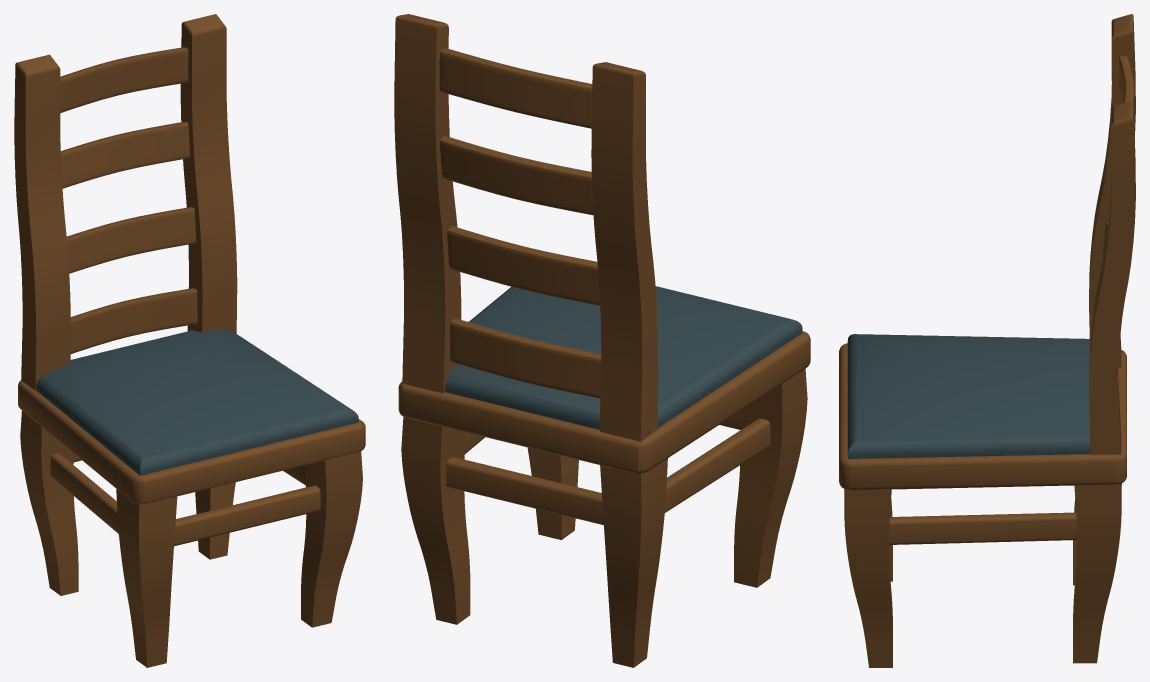
The model's file is 047_048_chair.glb.
3 renders of one model, left to right at view 1: azimuth 30°, elevation 25°; view 2: azimuth 150°, elevation 25°; view 3: azimuth 270°, elevation 25°, orthographic. The views are drawn at different scales.
Parts seen in each view (by area): view 1: Asiento.001, palo 2, palo 1, Asiento, pata 3, pata 2, pata 4, respaldo 2, respaldo 3, respaldo 4, respaldo 1, Plane.001 (+2 smaller); view 2: Asiento.001, palo 2, palo 1, Asiento, pata 4, pata 1, pata 3, respaldo 1, respaldo 4, respaldo 3, respaldo 2, Plane (+2 smaller); view 3: Asiento.001, Asiento, palo 1, pata 1, pata 2, Plane.003, palo 2, respaldo 1.
Boxes of the visible parts, bbox=[...] form: Asiento.001: bbox=[36, 329, 358, 475]; palo 2: bbox=[14, 54, 70, 390]; palo 1: bbox=[180, 14, 237, 333]; Asiento: bbox=[18, 380, 365, 504]; pata 3: bbox=[116, 489, 177, 667]; pata 2: bbox=[301, 451, 362, 627]; pata 4: bbox=[20, 411, 78, 595]; respaldo 2: bbox=[60, 121, 190, 188]; respaldo 3: bbox=[66, 207, 196, 273]; respaldo 4: bbox=[70, 288, 197, 353]; respaldo 1: bbox=[60, 47, 188, 112]; Plane.001: bbox=[174, 485, 320, 546]; Asiento.001: bbox=[445, 286, 802, 429]; palo 2: bbox=[591, 62, 658, 441]; palo 1: bbox=[394, 14, 461, 393]; Asiento: bbox=[398, 331, 810, 473]; pata 4: bbox=[600, 458, 667, 667]; pata 1: bbox=[401, 416, 470, 624]; pata 3: bbox=[734, 369, 807, 587]; respaldo 1: bbox=[439, 48, 592, 128]; respaldo 4: bbox=[450, 318, 601, 398]; respaldo 3: bbox=[447, 226, 600, 305]; respaldo 2: bbox=[440, 135, 593, 215]; Plane: bbox=[446, 457, 603, 525]; Asiento.001: bbox=[847, 334, 1090, 458]; Asiento: bbox=[839, 343, 1126, 490]; palo 1: bbox=[1089, 101, 1135, 454]; pata 1: bbox=[1073, 483, 1121, 663]; pata 2: bbox=[844, 489, 892, 667]; Plane.003: bbox=[889, 512, 1077, 544]; palo 2: bbox=[1089, 14, 1135, 367]; respaldo 1: bbox=[1119, 55, 1135, 130].
Size of the model in its own units: 0.7058 by 1.5 by 0.7277.
